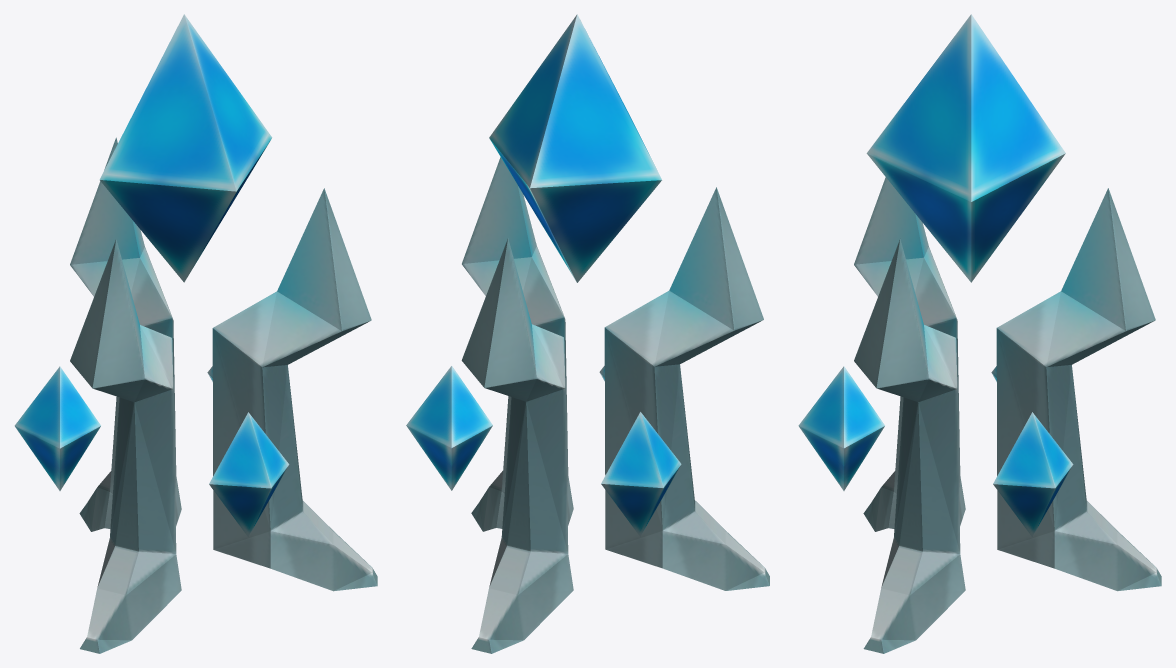
Rendered from IceTower.FBX.
The picture shows the model from 3 angles, left to right: view 1: azimuth 30°, elevation 25°; view 2: azimuth 150°, elevation 25°; view 3: azimuth 270°, elevation 25°; orthographic projection.
Visible parts, largest first — view 1: IceTower, crystal_L, crystal_S_03, crystal_S_01; view 2: IceTower, crystal_L, crystal_S_02, crystal_S_03; view 3: IceTower, crystal_L, crystal_S_01, crystal_S_02.
Part boxes in pixels (x1=…): IceTower: x1=70, y1=137, x2=377, y2=653; crystal_L: x1=99, y1=14, x2=272, y2=282; crystal_S_03: x1=14, y1=366, x2=100, y2=490; crystal_S_01: x1=209, y1=412, x2=289, y2=536; IceTower: x1=461, y1=157, x2=769, y2=653; crystal_L: x1=489, y1=14, x2=661, y2=282; crystal_S_02: x1=406, y1=366, x2=492, y2=490; crystal_S_03: x1=601, y1=412, x2=681, y2=536; IceTower: x1=854, y1=177, x2=1161, y2=653; crystal_L: x1=866, y1=14, x2=1065, y2=282; crystal_S_01: x1=798, y1=366, x2=884, y2=490; crystal_S_02: x1=993, y1=412, x2=1073, y2=536.
Bounding box in the file's own units: 84.61 × 154 × 89.26.
